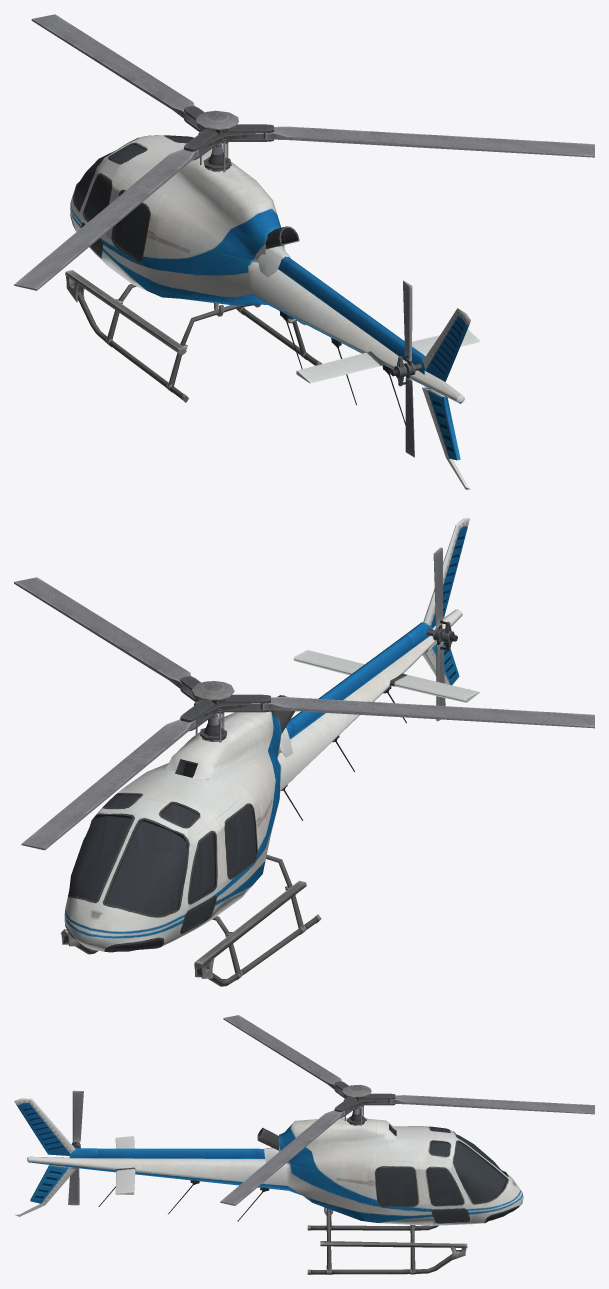
Rendered from Eurocopter_H125.glb.
3 renders of one model, top to bottom at view 1: azimuth 30°, elevation 25°; view 2: azimuth 150°, elevation 25°; view 3: azimuth 270°, elevation 25°, orthographic. The views are drawn at different scales.
Visible parts, largest first — view 1: Eurocopter_H125__LOD4; view 2: Eurocopter_H125__LOD4; view 3: Eurocopter_H125__LOD4.
Boxes of the visible parts, bbox=[...] form: Eurocopter_H125__LOD4: bbox=[14, 14, 594, 489]; Eurocopter_H125__LOD4: bbox=[14, 518, 594, 986]; Eurocopter_H125__LOD4: bbox=[14, 1015, 594, 1274].
Size of the model in its own units: 7.13 by 2.9 by 9.19.
2 materials, 2 textured.
